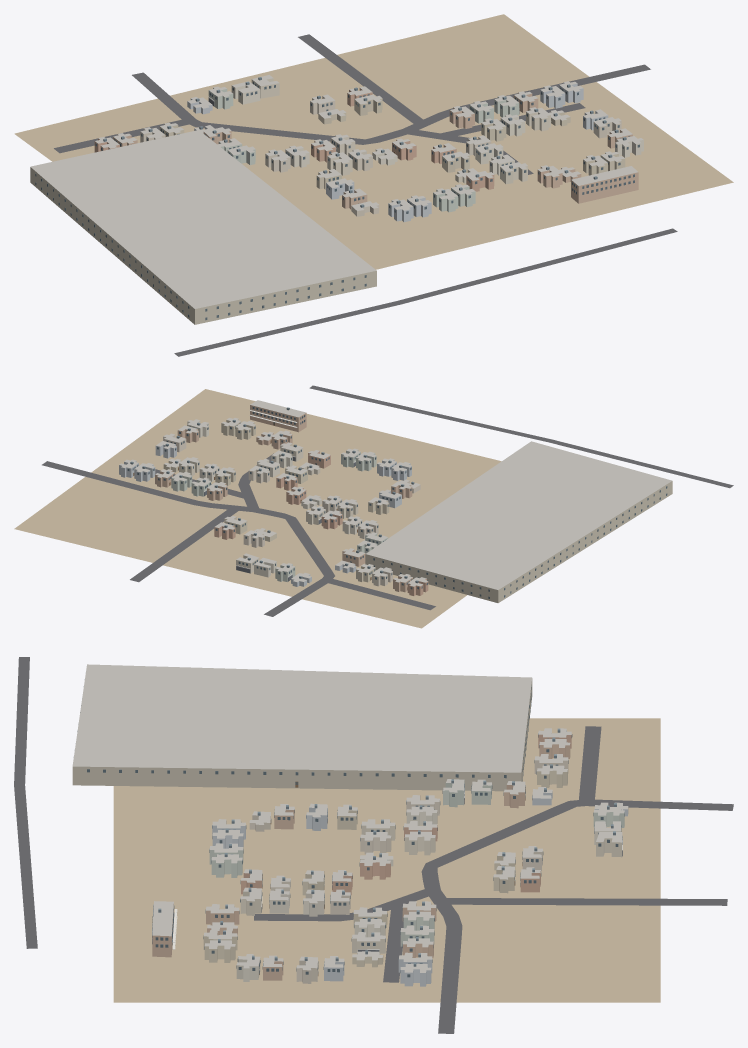
The model's file is dhule_block.glb.
The picture shows the model from 3 angles, top to bottom: view 1: azimuth 30°, elevation 25°; view 2: azimuth 150°, elevation 25°; view 3: azimuth 270°, elevation 25°; orthographic projection. The views are drawn at different scales.
Visible parts, largest first — view 1: Ground, B_482794524, R_887431550, R_884985416, B_1337951715, R_887431547, R_887431546; view 2: Ground, B_482794524, R_887431550, R_884985416, B_1337951715, R_887431547, R_887431546, R_887431549; view 3: Ground, B_482794524, R_887431550, R_884985416, R_887431547, B_1337951715, R_887431546, R_887431549, R_887431548, B_1337953916, B_1337953920, B_1337953914 (+7 smaller).
Part boxes in pixels (bbox=[...]): Ground: bbox=[14, 14, 733, 269]; B_482794524: bbox=[30, 130, 376, 324]; R_887431550: bbox=[132, 64, 650, 144]; R_884985416: bbox=[174, 228, 677, 356]; B_1337951715: bbox=[571, 166, 638, 203]; R_887431547: bbox=[298, 34, 426, 125]; R_887431546: bbox=[54, 119, 192, 153]; Ground: bbox=[14, 389, 501, 628]; B_482794524: bbox=[365, 441, 672, 602]; R_887431550: bbox=[42, 461, 334, 616]; R_884985416: bbox=[309, 385, 733, 488]; B_1337951715: bbox=[249, 400, 306, 432]; R_887431547: bbox=[130, 508, 240, 582]; R_887431546: bbox=[324, 578, 435, 610]; R_887431549: bbox=[238, 453, 273, 510]; Ground: bbox=[113, 718, 660, 1002]; B_482794524: bbox=[72, 664, 532, 791]; R_887431550: bbox=[421, 799, 733, 1033]; R_884985416: bbox=[14, 657, 37, 948]; R_887431547: bbox=[440, 898, 727, 905]; B_1337951715: bbox=[152, 901, 177, 957]; R_887431546: bbox=[578, 726, 601, 802]; R_887431549: bbox=[254, 888, 437, 921]; R_887431548: bbox=[383, 902, 407, 982]; B_1337953916: bbox=[211, 853, 242, 877]; B_1337953920: bbox=[404, 830, 435, 855]; B_1337953914: bbox=[204, 939, 235, 962].
Bounding box in the file's own units: 361 × 10.85 × 292.
